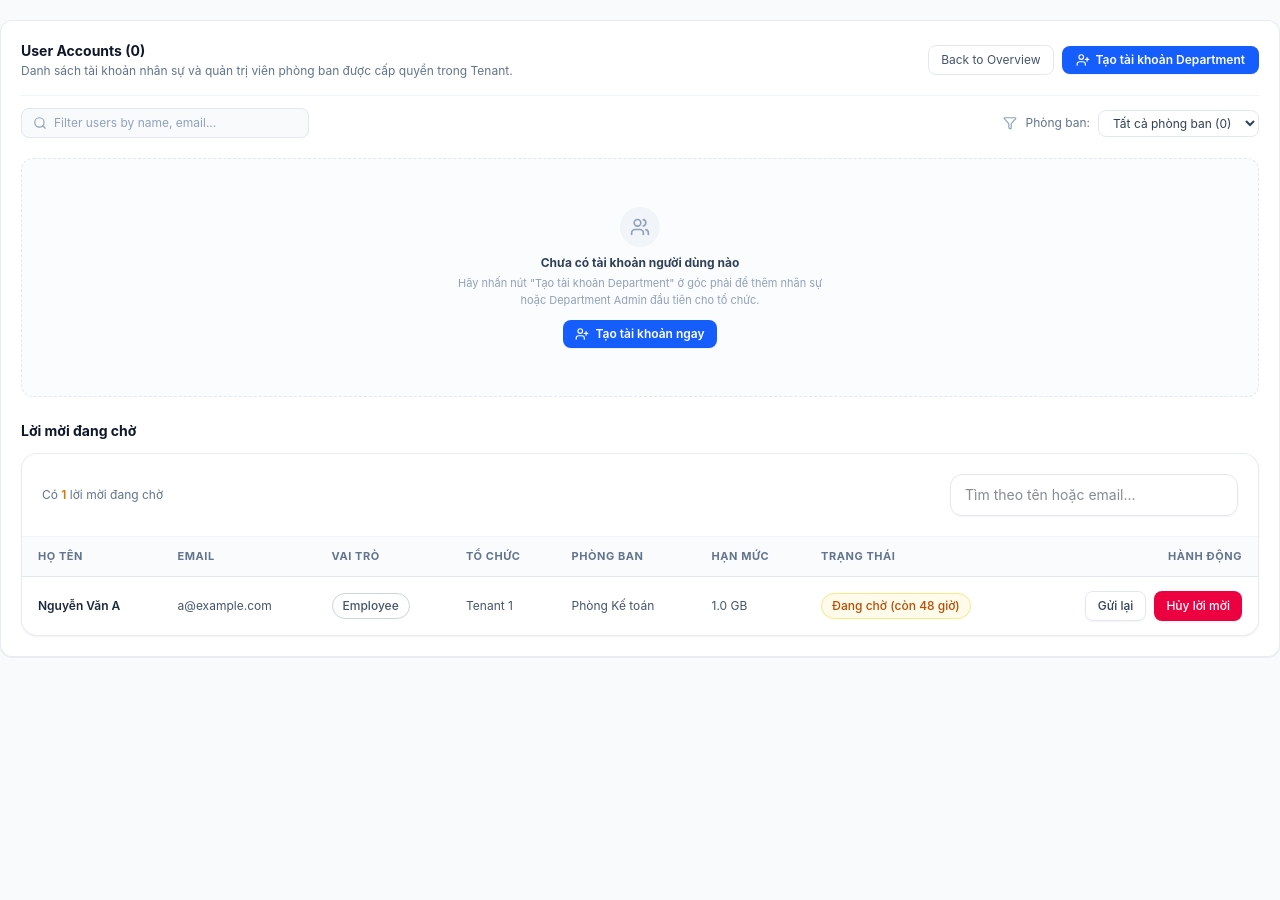
pending invitations wired into a portal view › surfaces the interceptor error message when cancel is forbidden
Click the button "Hủy lời mời".
click(1198, 606)  # box [1154,591,1242,621]
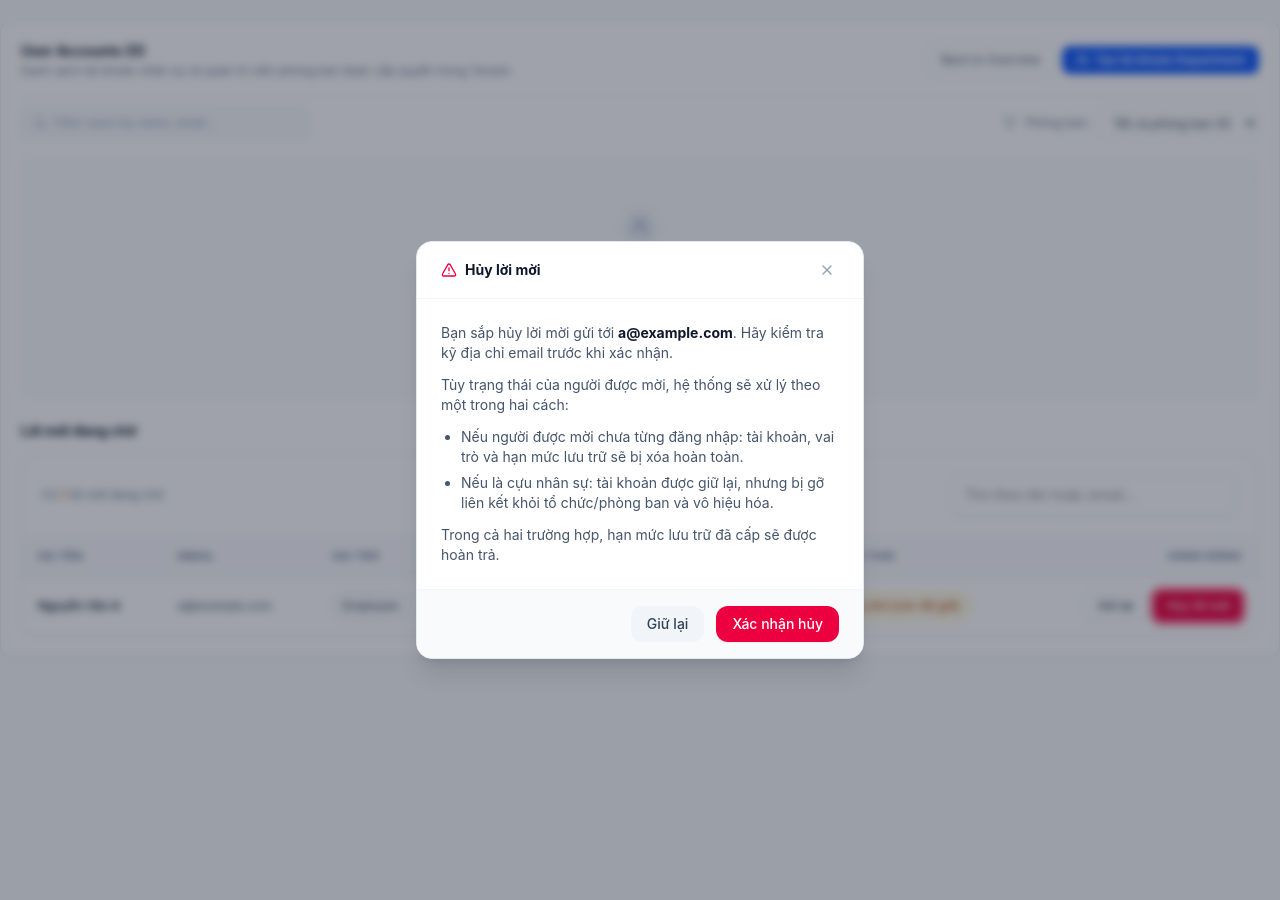
Click the button "Xác nhận hủy".
click(778, 624)  # box [716,606,839,642]
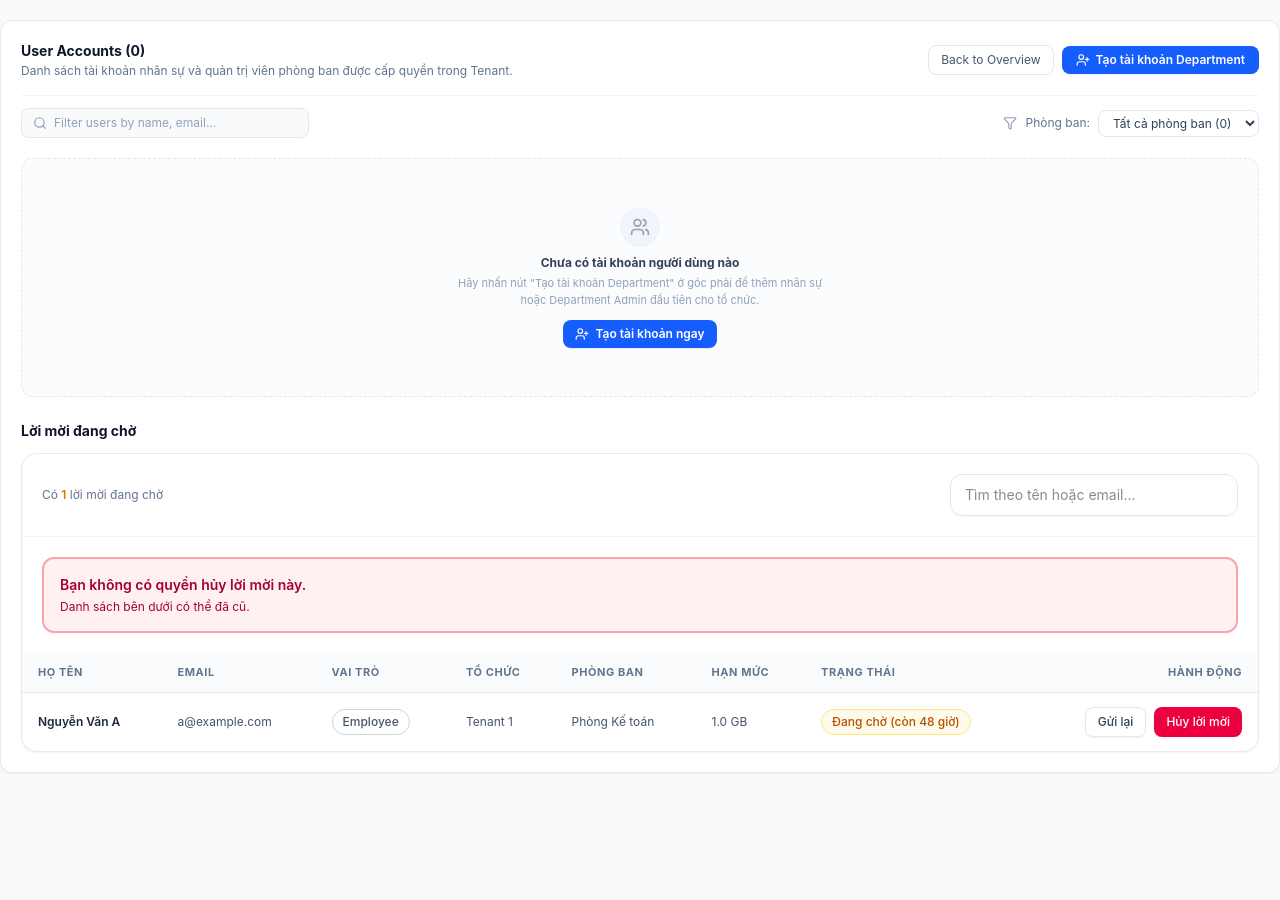
Expected: the text "a@example.com" is shown, [162,692,316,751]
Result: the text "Bạn không có quyền hủy lời mời này. Danh sách bên dưới có thể đã cũ." is shown at [42,557,1238,633]
Result: the button "Xác nhận hủy" is gone
